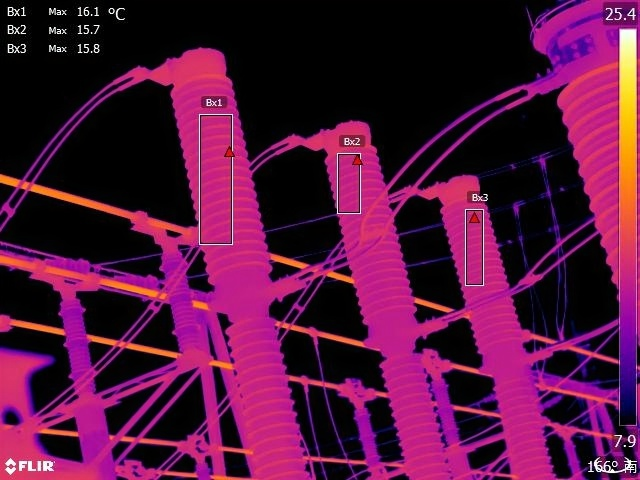circuit breaker: (164, 32, 318, 480), (319, 106, 452, 480), (440, 152, 556, 480)
clamp: (295, 368, 311, 399), (306, 322, 319, 344)
current transformer: (517, 1, 639, 342)
post insulator: (155, 249, 199, 350), (64, 295, 100, 382), (350, 405, 388, 469), (433, 377, 464, 446), (561, 436, 582, 480)
